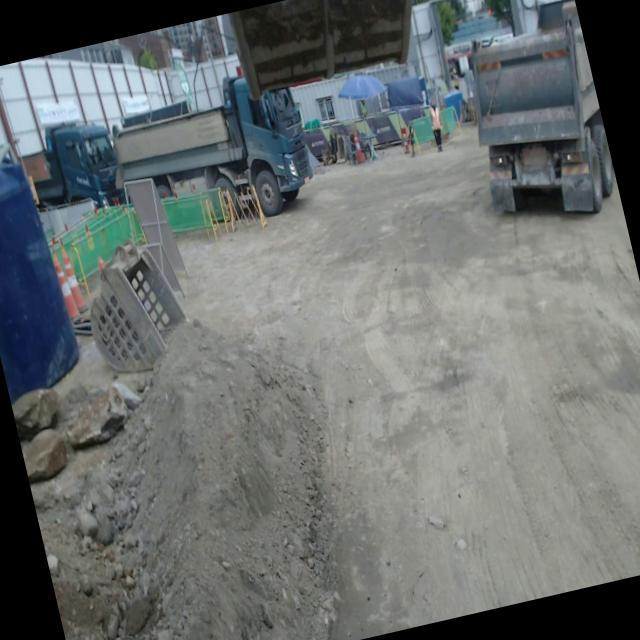stone: (67, 386, 126, 448), (11, 388, 59, 439), (23, 428, 67, 483)
white-sand: (194, 127, 640, 640), (123, 326, 331, 640)
